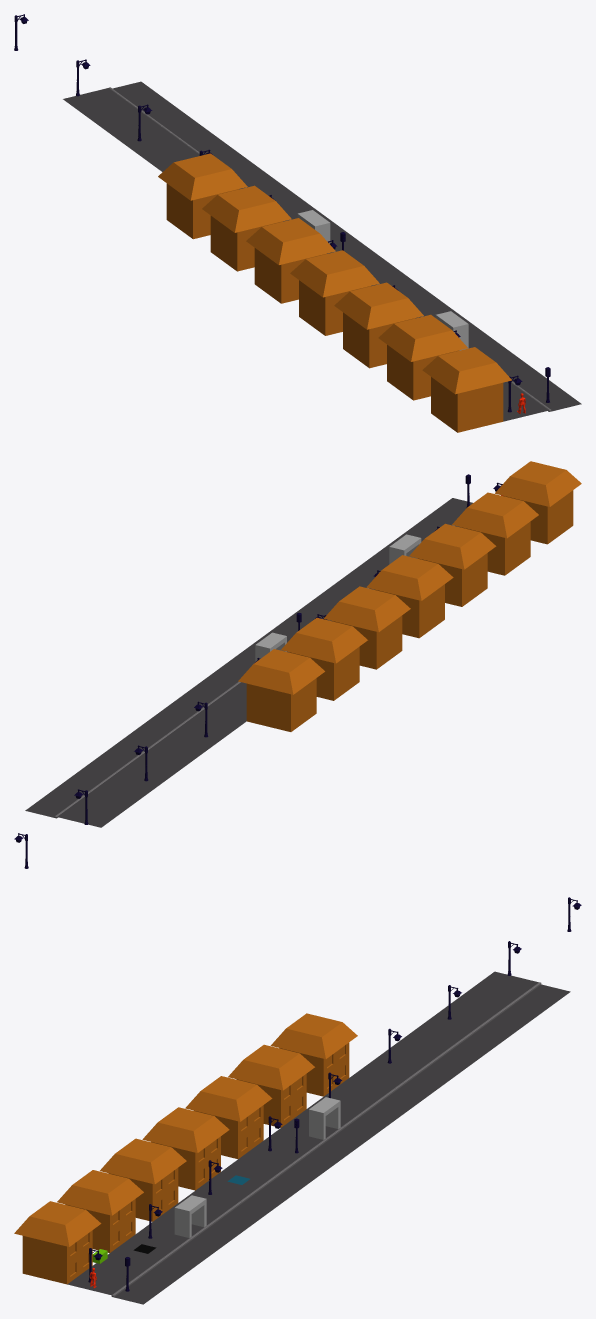
Rendered from testEnvironment.gltf.
3 views of the same model, one above another, from view 1: azimuth 30°, elevation 25°; view 2: azimuth 150°, elevation 25°; view 3: azimuth 330°, elevation 25° (orthographic). The views are drawn at different scales.
Parts seen in each view (by area): view 1: houses, CarLane, WalkLane, busStop1, lampPost, busStop2; view 2: houses, CarLane, WalkLane, busStop1, busStop2, lampPost; view 3: houses, WalkLane, CarLane, curbs, busStop1, busStop2.
Part boxes in pixels (left/top/right/bottom): houses: left=158, top=153, right=511, bottom=432; CarLane: left=112, top=81, right=581, bottom=411; WalkLane: left=63, top=88, right=548, bottom=421; busStop1: left=435, top=311, right=468, bottom=350; lampPost: left=14, top=14, right=152, bottom=141; busStop2: left=297, top=210, right=330, bottom=243; houses: left=238, top=461, right=581, bottom=731; CarLane: left=25, top=498, right=472, bottom=817; WalkLane: left=57, top=525, right=459, bottom=827; busStop1: left=389, top=534, right=421, bottom=564; busStop2: left=255, top=632, right=286, bottom=661; lampPost: left=14, top=745, right=148, bottom=868; houses: left=14, top=1013, right=357, bottom=1284; WalkLane: left=67, top=971, right=538, bottom=1295; CarLane: left=114, top=984, right=570, bottom=1304; curbs: left=111, top=982, right=541, bottom=1297; busStop1: left=174, top=1195, right=206, bottom=1237; busStop2: left=309, top=1097, right=340, bottom=1139.
Size of the model in its own units: 8.52 by 3.75 by 57.58.
10 materials, 10 textured.
